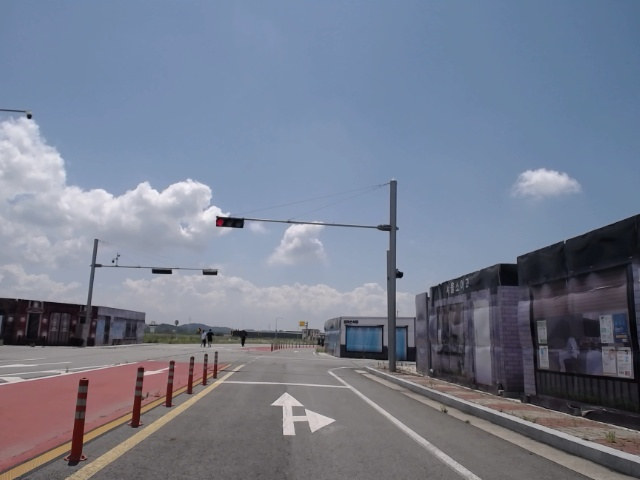red_3: (214, 215, 245, 230)
